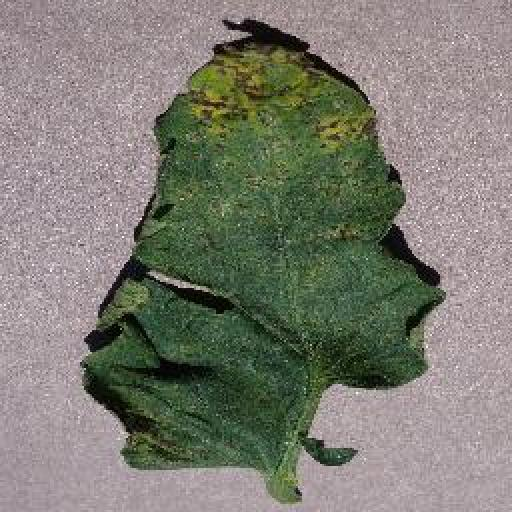disease_tomato: (77, 34, 444, 470)
